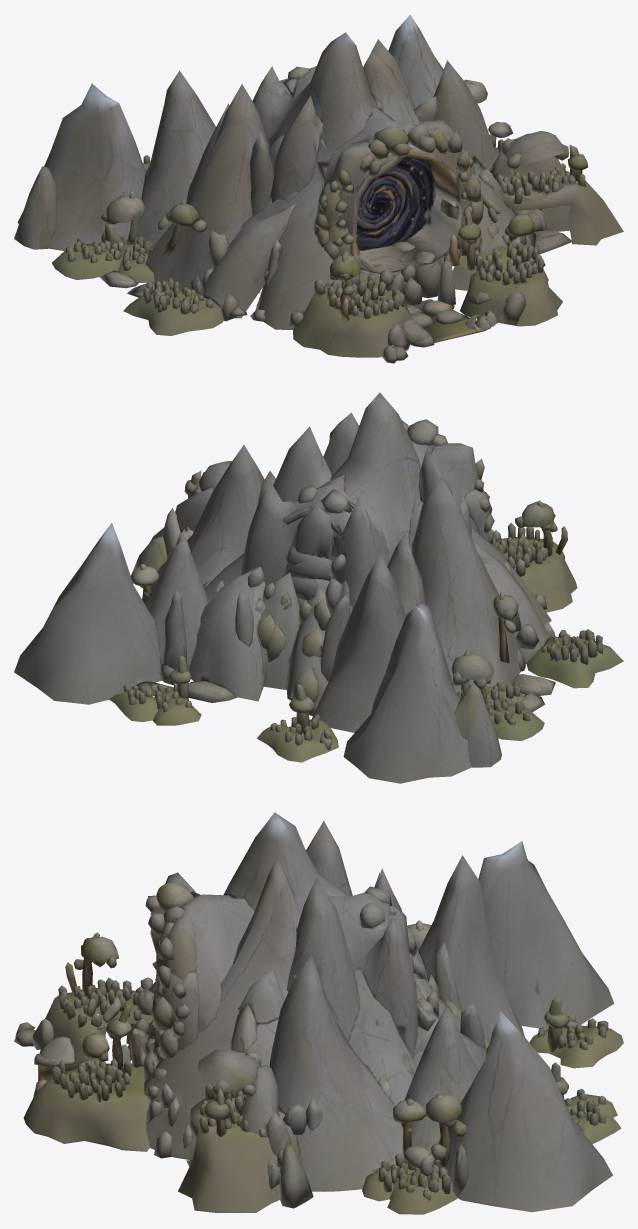
The model's file is timemachin.glb.
The picture shows the model from 3 angles, top to bottom: view 1: azimuth 30°, elevation 25°; view 2: azimuth 150°, elevation 25°; view 3: azimuth 270°, elevation 25°; orthographic projection. The views are drawn at different scales.
Parts seen in each view (by area): view 1: mesh_node; view 2: mesh_node; view 3: mesh_node.
Boxes of the visible parts, x1,y1,x2,y2 form: mesh_node: (14,14,623,363); mesh_node: (14,392,623,783); mesh_node: (14,812,623,1214).
Size of the model in its own units: 1 by 0.4854 by 0.9961.
1 material, 1 textured.
